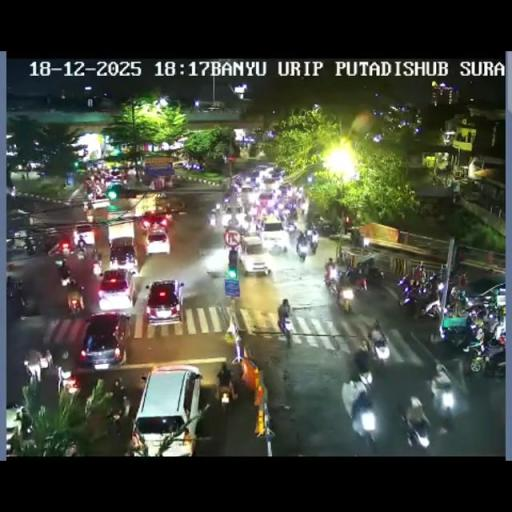Car: (131, 364, 201, 455), (79, 312, 129, 368), (145, 278, 185, 325), (96, 270, 138, 312), (237, 236, 271, 276), (260, 216, 289, 253), (108, 238, 138, 271), (6, 405, 26, 452), (146, 226, 170, 256), (140, 210, 171, 232), (156, 194, 186, 214), (311, 215, 336, 237), (73, 222, 95, 246), (251, 164, 274, 182), (90, 192, 110, 210), (258, 190, 274, 206), (241, 184, 253, 194)
Motorcycle: (466, 330, 504, 374), (437, 314, 477, 354), (398, 275, 437, 315), (429, 366, 457, 418), (401, 406, 431, 450), (108, 379, 132, 433), (350, 402, 378, 440), (366, 319, 390, 362), (216, 362, 235, 404), (58, 363, 78, 394), (462, 301, 490, 322), (24, 352, 42, 382), (126, 426, 144, 454), (338, 283, 355, 312), (277, 316, 292, 346), (358, 364, 374, 391), (6, 276, 24, 300), (449, 285, 468, 307), (324, 270, 339, 296), (231, 218, 251, 236), (490, 317, 504, 341), (346, 226, 364, 244), (306, 228, 318, 254), (68, 294, 82, 315), (354, 272, 368, 292), (59, 269, 74, 287), (296, 238, 308, 260), (42, 350, 53, 370), (24, 240, 37, 255), (283, 205, 295, 221), (92, 257, 102, 276), (286, 219, 297, 236), (76, 242, 86, 260), (60, 240, 71, 256), (254, 218, 266, 232), (249, 205, 259, 221), (337, 253, 348, 267), (138, 373, 147, 390), (54, 254, 64, 268), (209, 213, 216, 227), (86, 210, 94, 222), (222, 194, 230, 205), (82, 202, 89, 212), (20, 173, 26, 180)
